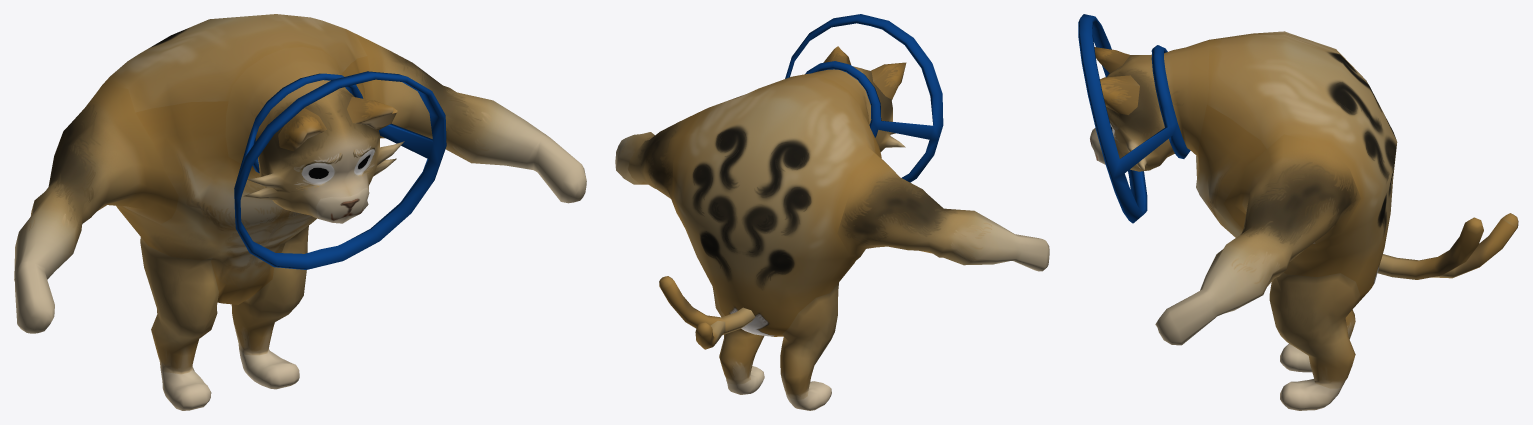
Rendered from enemmy.fbx.
3 views of the same model, side by side, from view 1: azimuth 30°, elevation 25°; view 2: azimuth 150°, elevation 25°; view 3: azimuth 270°, elevation 25° (orthographic). The views are drawn at different scales.
Parts seen in each view (by area): view 1: enemy; view 2: enemy; view 3: enemy.
Boxes of the visible parts, left/top/right/bottom form: enemy: left=14, top=14, right=586, bottom=410; enemy: left=615, top=14, right=1049, bottom=410; enemy: left=1078, top=14, right=1518, bottom=410.
Bounding box in the file's own units: 386 × 266 × 294.
2 materials, 1 textured.
